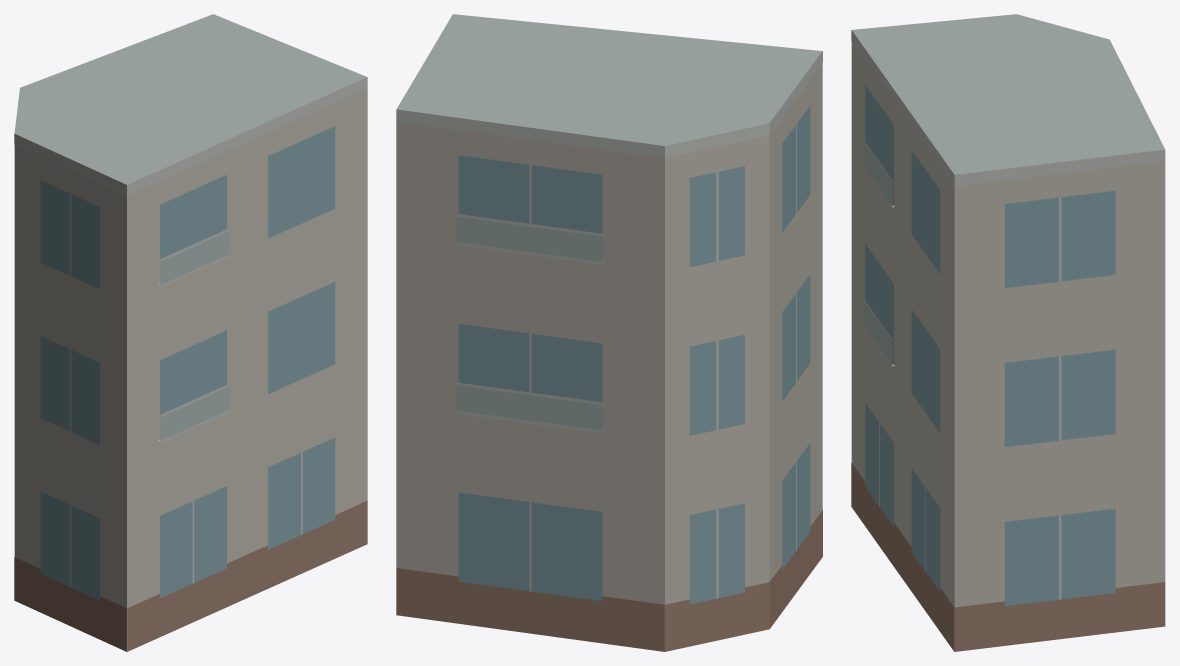
The model's file is survey-upis-32498593.glb.
The picture shows the model from 3 angles, left to right: view 1: azimuth 30°, elevation 25°; view 2: azimuth 150°, elevation 25°; view 3: azimuth 270°, elevation 25°; orthographic projection. The views are drawn at different scales.
Parts seen in each view (by area): view 1: survey-upis-32498593.tmp; view 2: survey-upis-32498593.tmp; view 3: survey-upis-32498593.tmp.
Part boxes in pixels (<box>): survey-upis-32498593.tmp: <box>14,14,367,651</box>; survey-upis-32498593.tmp: <box>396,14,822,651</box>; survey-upis-32498593.tmp: <box>851,14,1165,651</box>.
Bounding box in the file's own units: 7.39 × 10.2 × 6.09.
